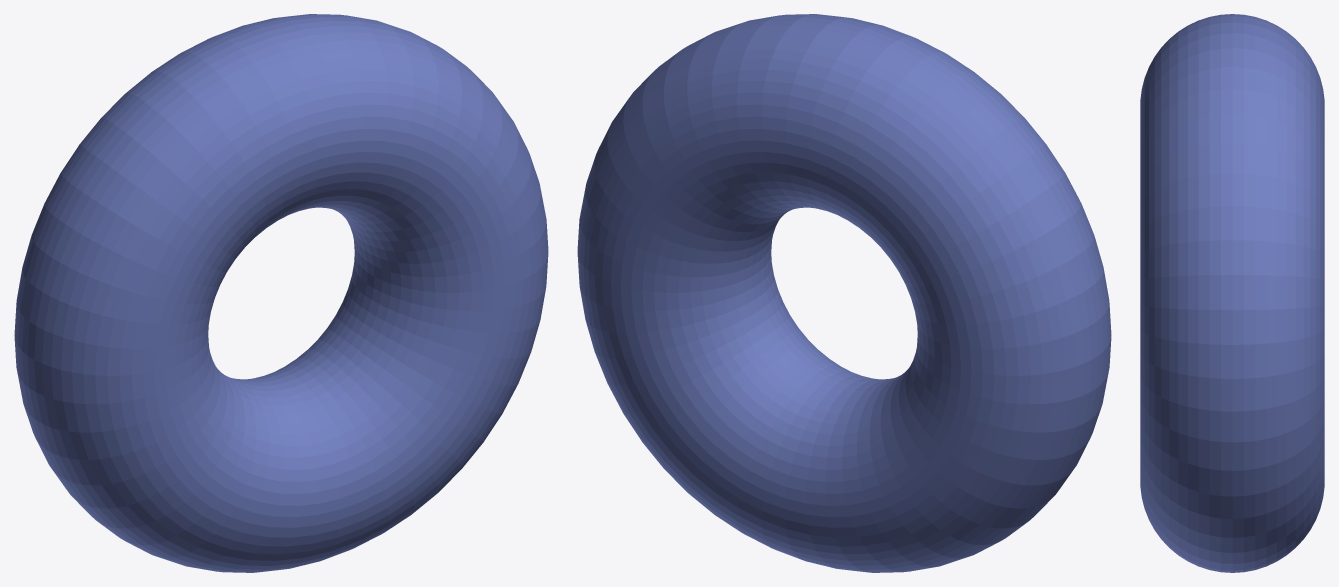
3 views of the same model, side by side, from view 1: azimuth 30°, elevation 25°; view 2: azimuth 150°, elevation 25°; view 3: azimuth 270°, elevation 25° (orthographic). The views are drawn at different scales.
Parts seen in each view (by area): view 1: world; view 2: world; view 3: world.
Part boxes in pixels (x1,y1,x2,y2): world: [14, 14, 548, 572]; world: [577, 14, 1111, 572]; world: [1140, 14, 1324, 572].
Bounding box in the file's own units: 14.93 × 14.9 × 4.92.
